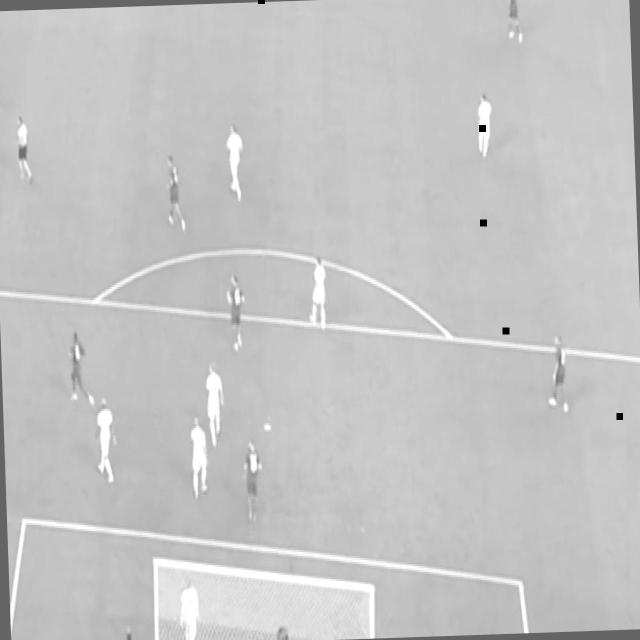player-white: (91, 394, 119, 487), (65, 329, 96, 409), (544, 331, 572, 417), (240, 437, 266, 527), (202, 358, 226, 452), (222, 119, 247, 207), (187, 413, 210, 503), (163, 152, 187, 238), (225, 268, 248, 354), (306, 253, 328, 335), (176, 571, 200, 640), (12, 114, 34, 186), (473, 88, 495, 160), (502, 0, 524, 46)
